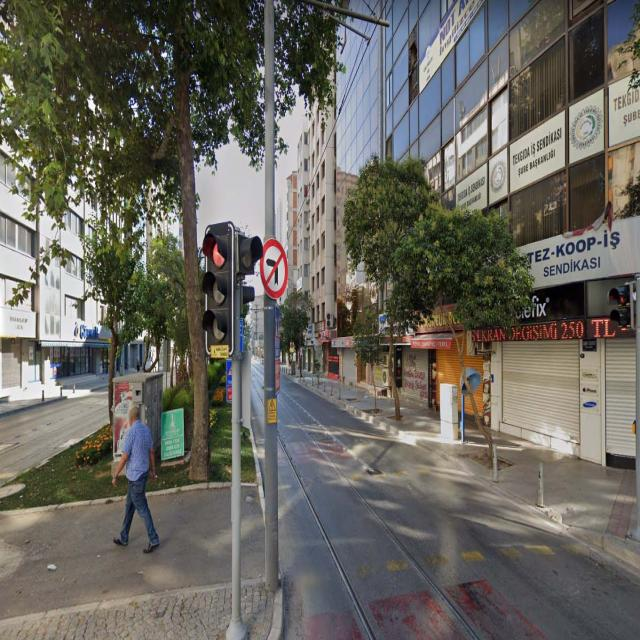kirmizi: (204, 229, 232, 351)
soladonulmez: (261, 236, 288, 299)
